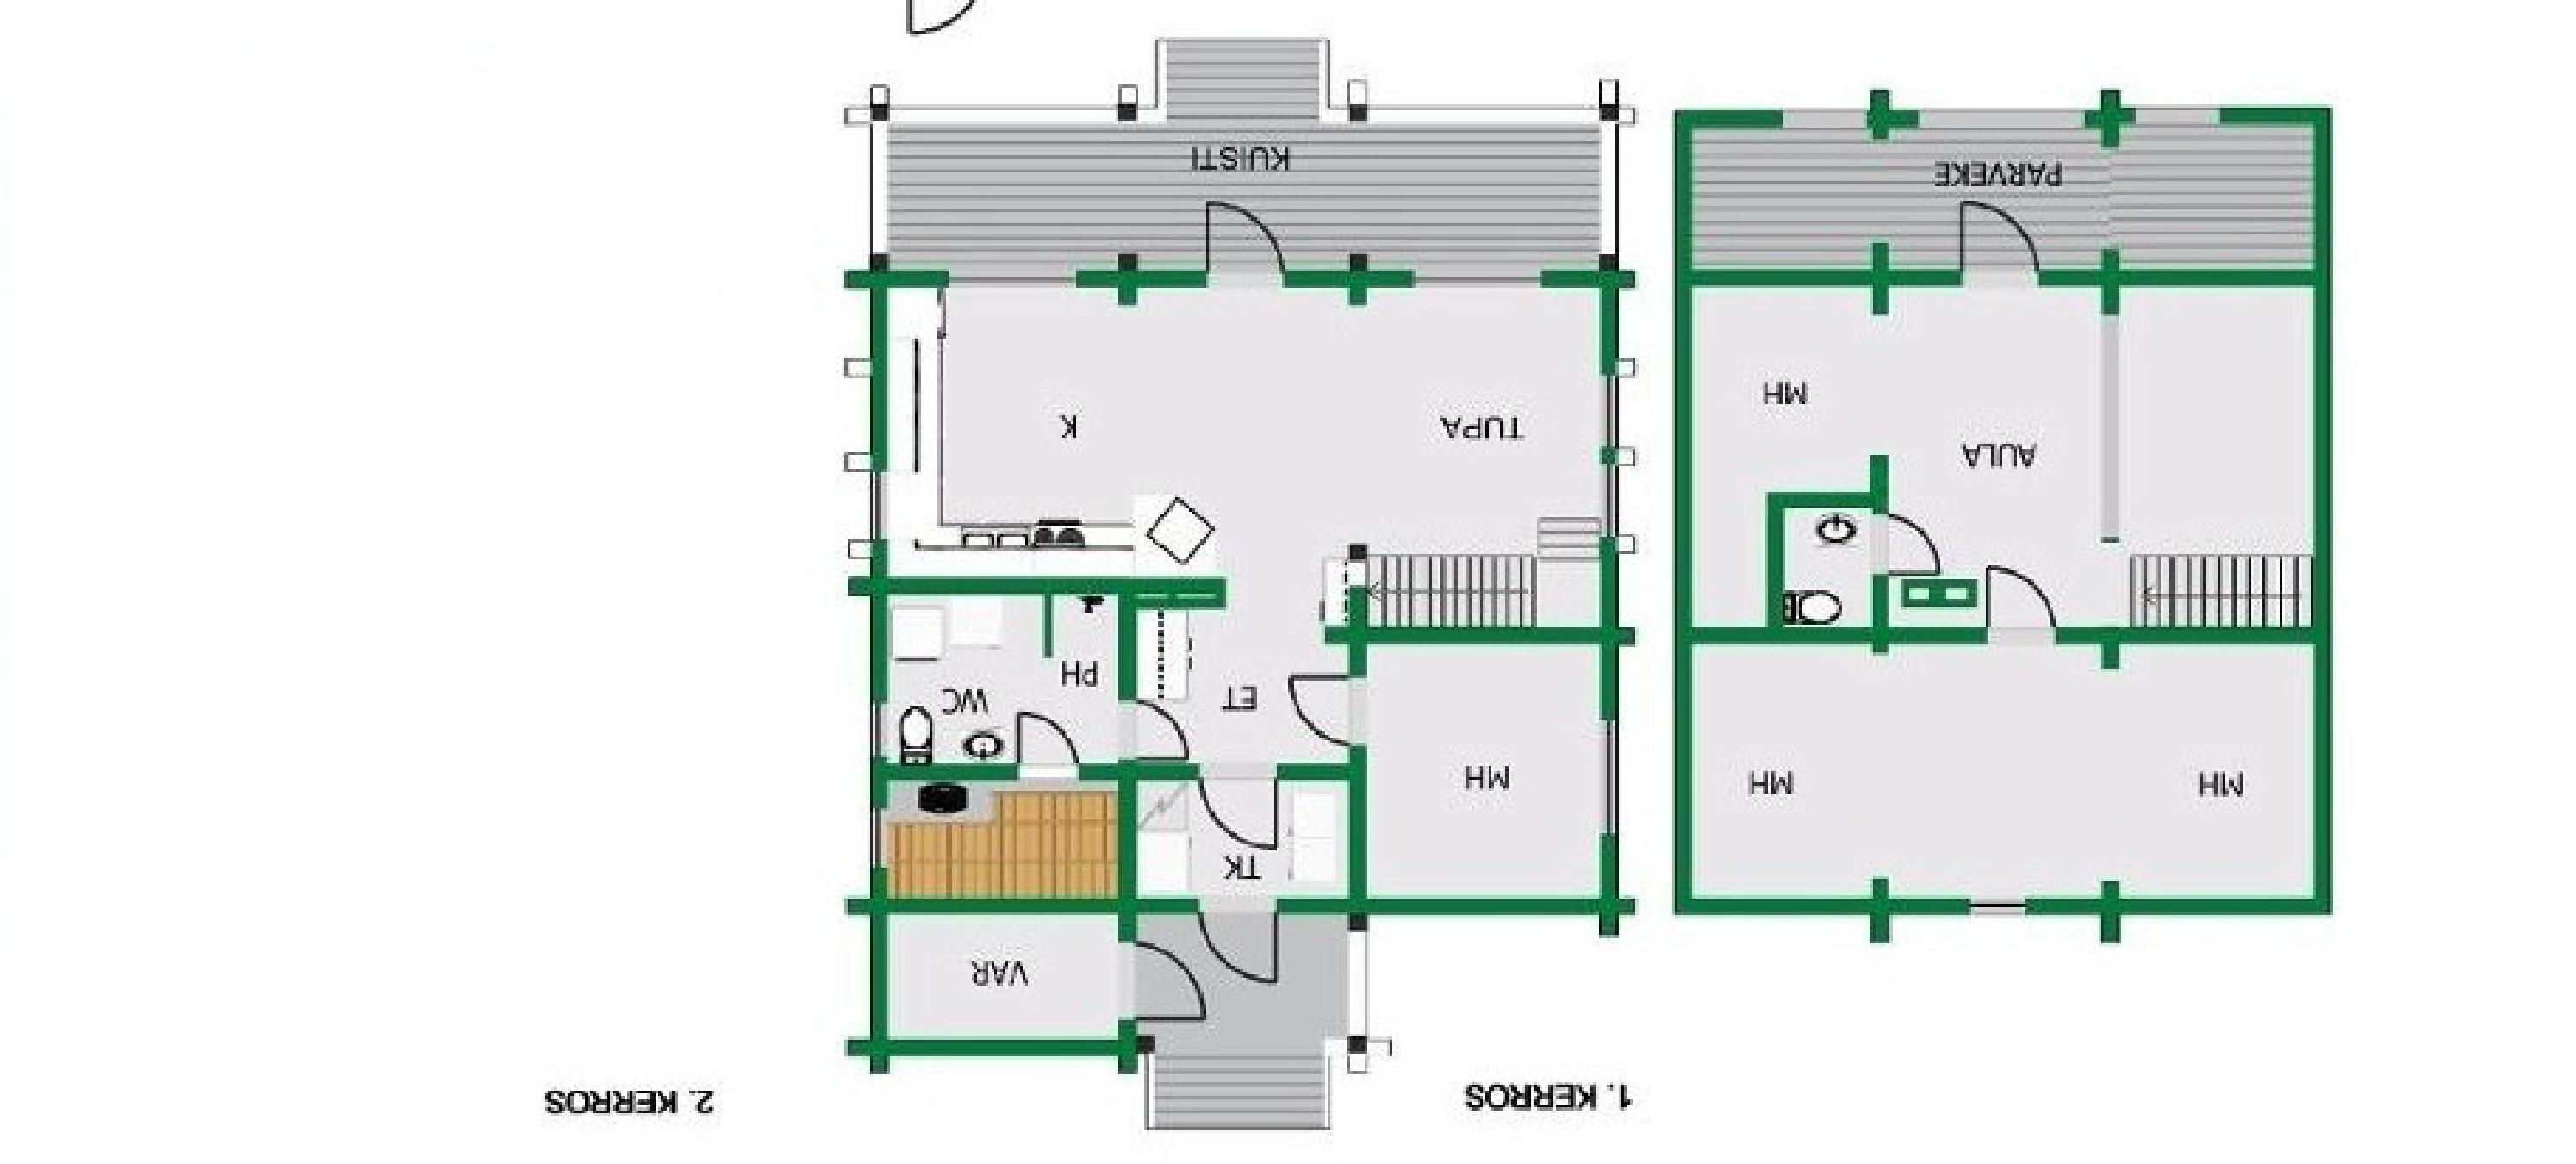door: (1198, 894, 1290, 991), (1952, 191, 2039, 289), (1204, 201, 1296, 279), (1283, 669, 1367, 755), (1198, 764, 1280, 848), (1120, 940, 1209, 1018), (1109, 695, 1196, 760), (1860, 508, 1940, 574), (1986, 570, 2055, 641), (1012, 714, 1081, 779)
window: (1917, 107, 2086, 132), (1597, 722, 1622, 843), (951, 268, 1070, 288), (1414, 266, 1531, 284), (2139, 109, 2215, 130), (1786, 112, 1865, 132), (1970, 896, 2019, 922)
zone: (867, 279, 1608, 763), (1684, 278, 2307, 621), (884, 39, 1615, 261), (1687, 644, 2307, 898), (1687, 122, 2305, 265), (1370, 638, 1602, 903), (1137, 909, 1354, 1118), (881, 594, 1116, 768), (885, 774, 1122, 904), (877, 919, 1125, 1042), (1139, 781, 1341, 898), (1781, 503, 1870, 628)
